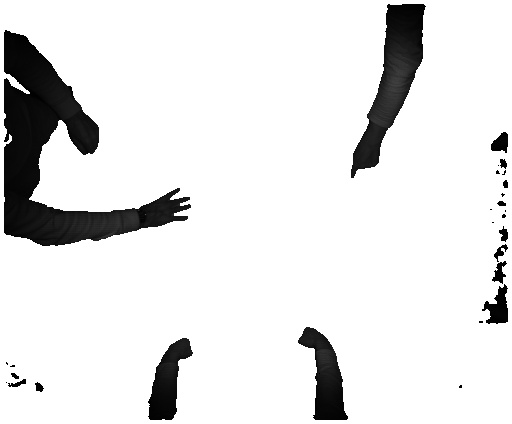fist: (68, 114, 103, 159), (296, 320, 325, 351), (171, 336, 199, 363)
hand: (143, 184, 191, 231), (344, 137, 383, 183)
